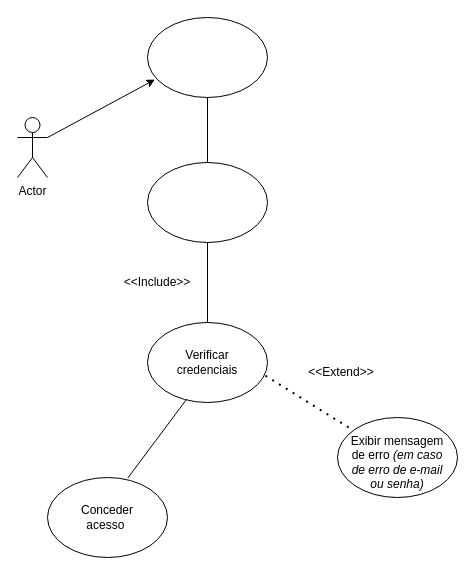
The diagram is 475 pixels wide and 575 high, and some of its shapes have lost their labels. Each missing label, with the box of its shape:
Acessar página de login: (146, 16, 268, 98)
Informar e-mail e senha: (146, 162, 268, 242)
